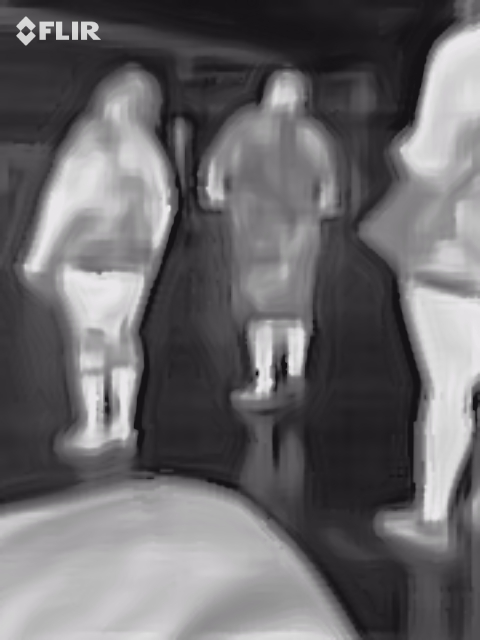head: (264, 63, 308, 118)
